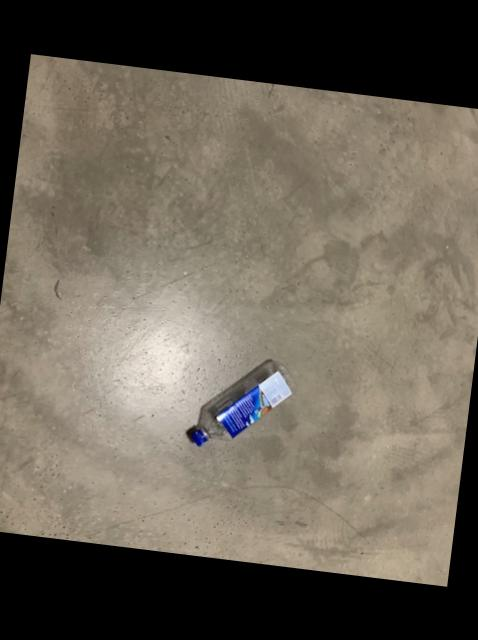plastic: (185, 358, 289, 444)
